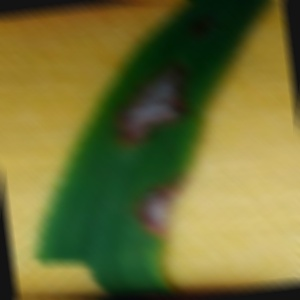Brown_Spot: (103, 56, 195, 152), (126, 176, 198, 241), (170, 7, 225, 49)
